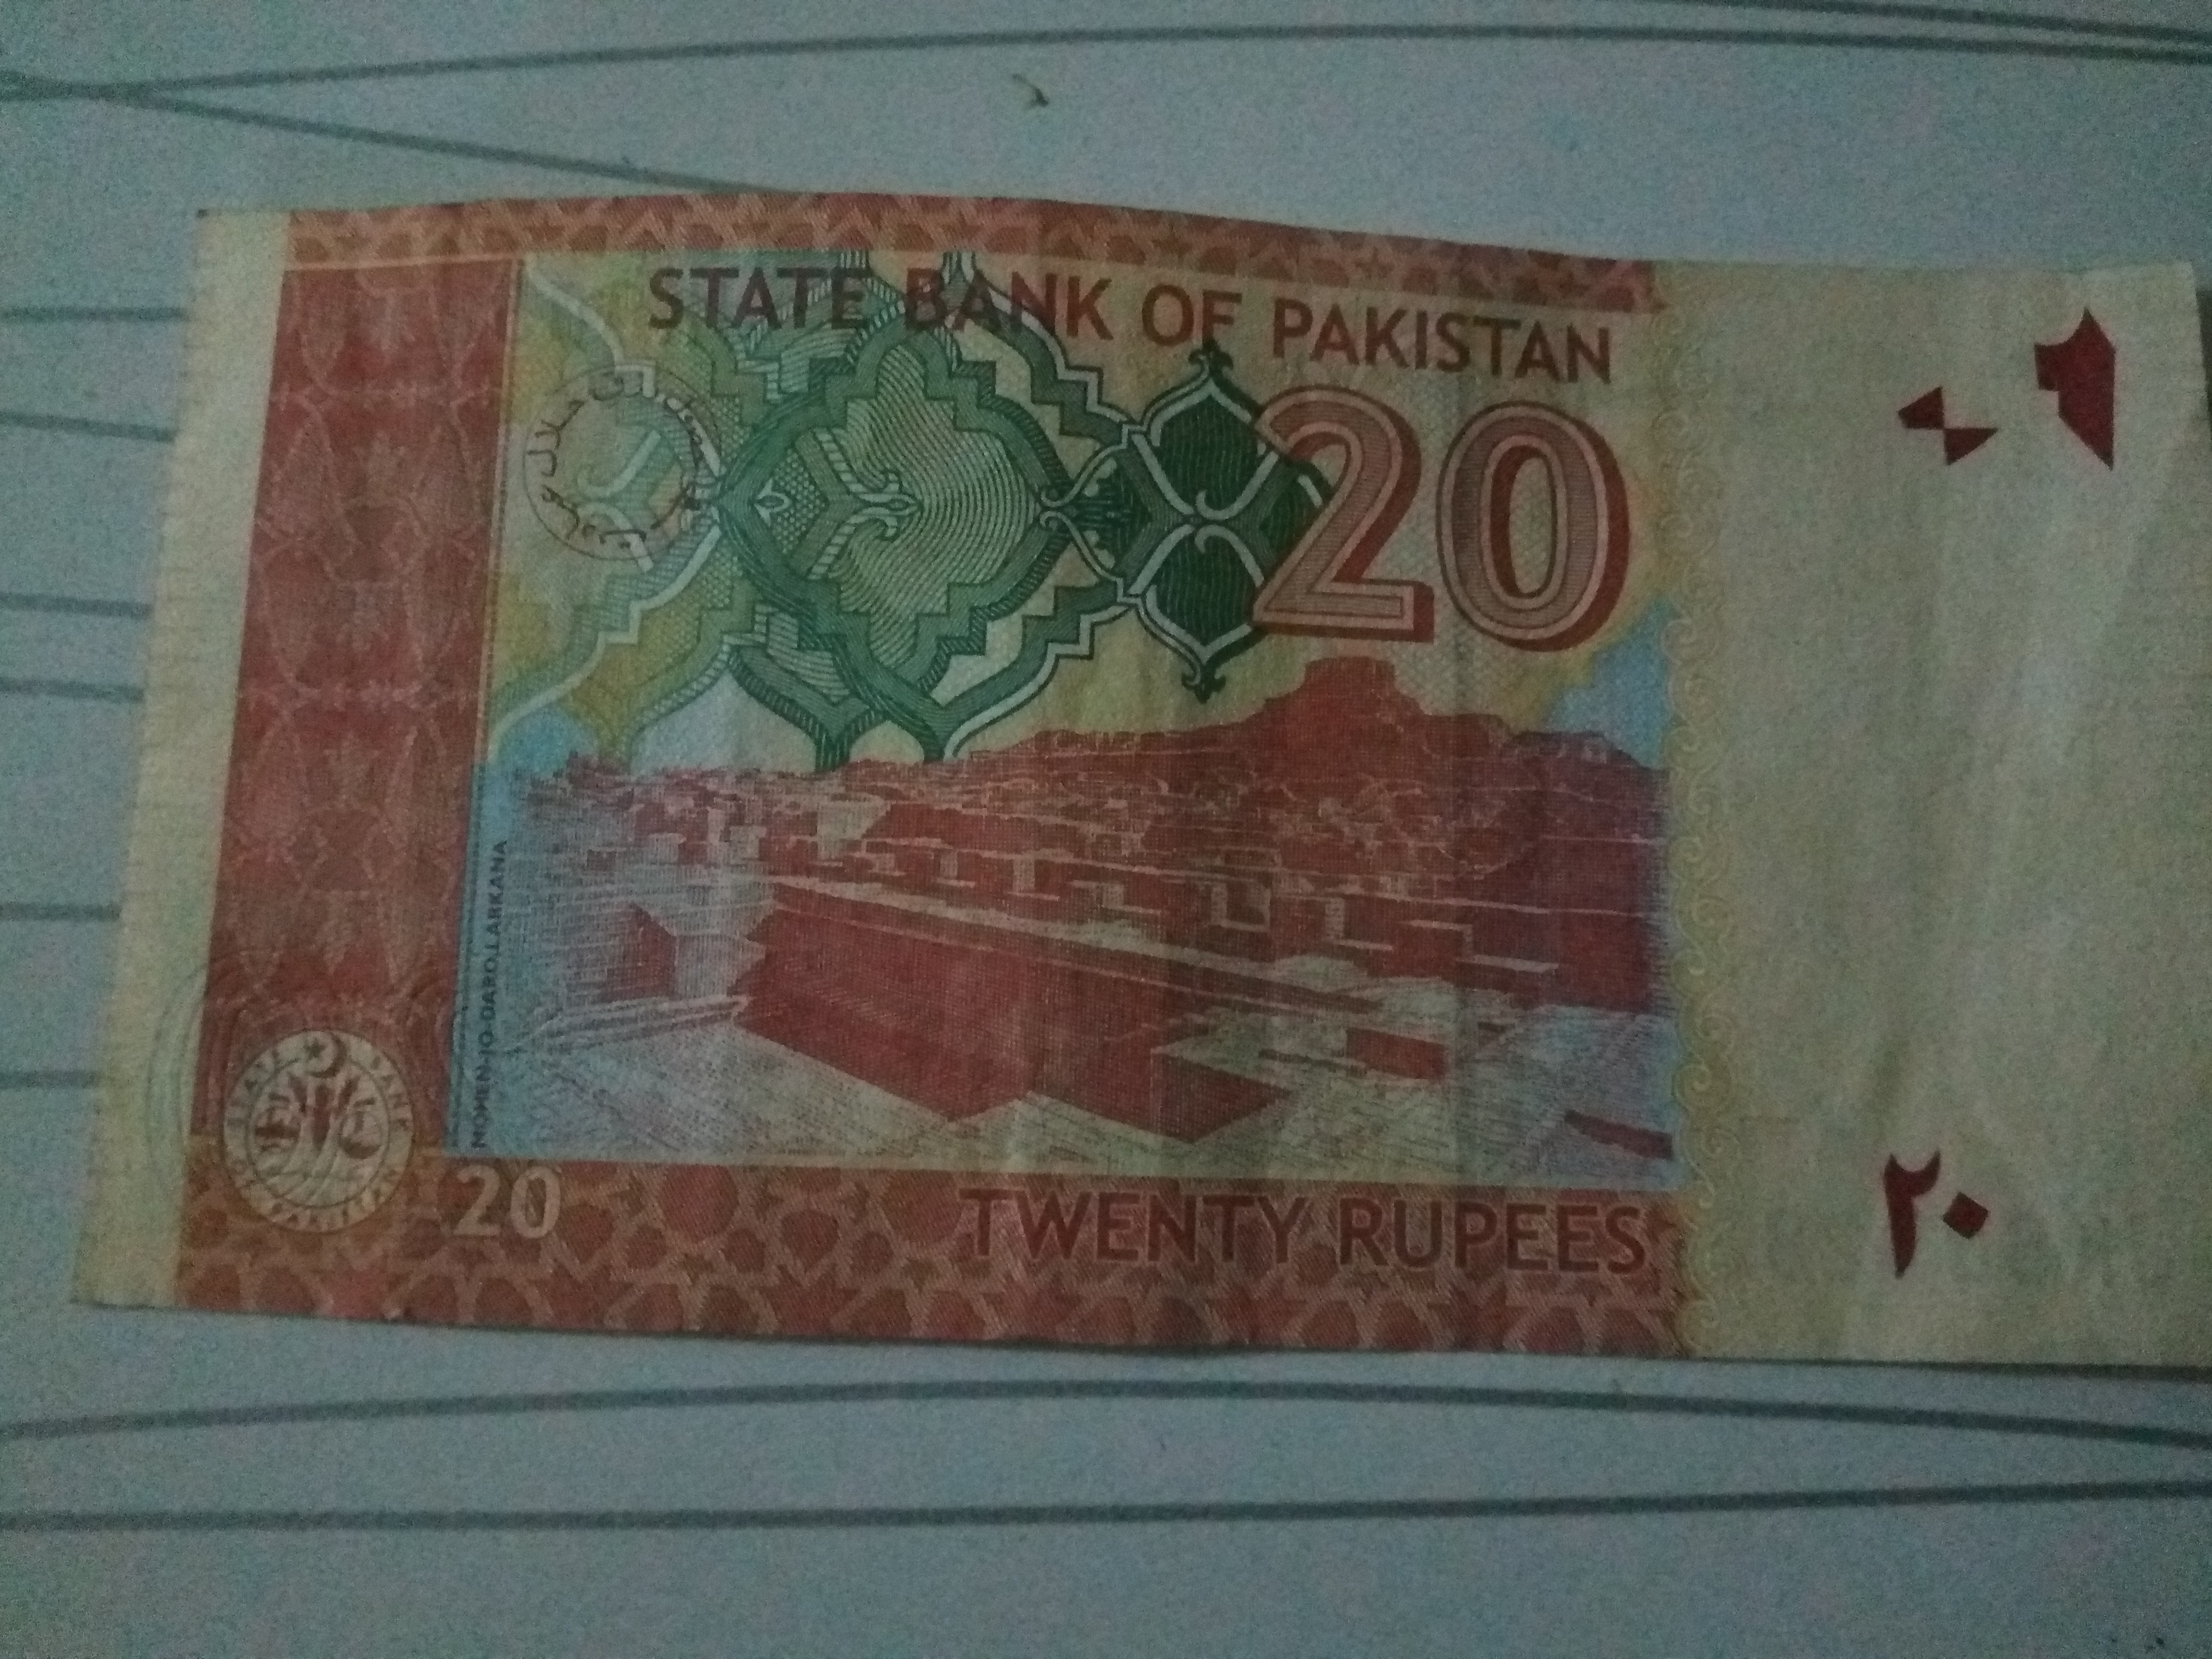20 rupee: (96, 145, 2172, 1412)
